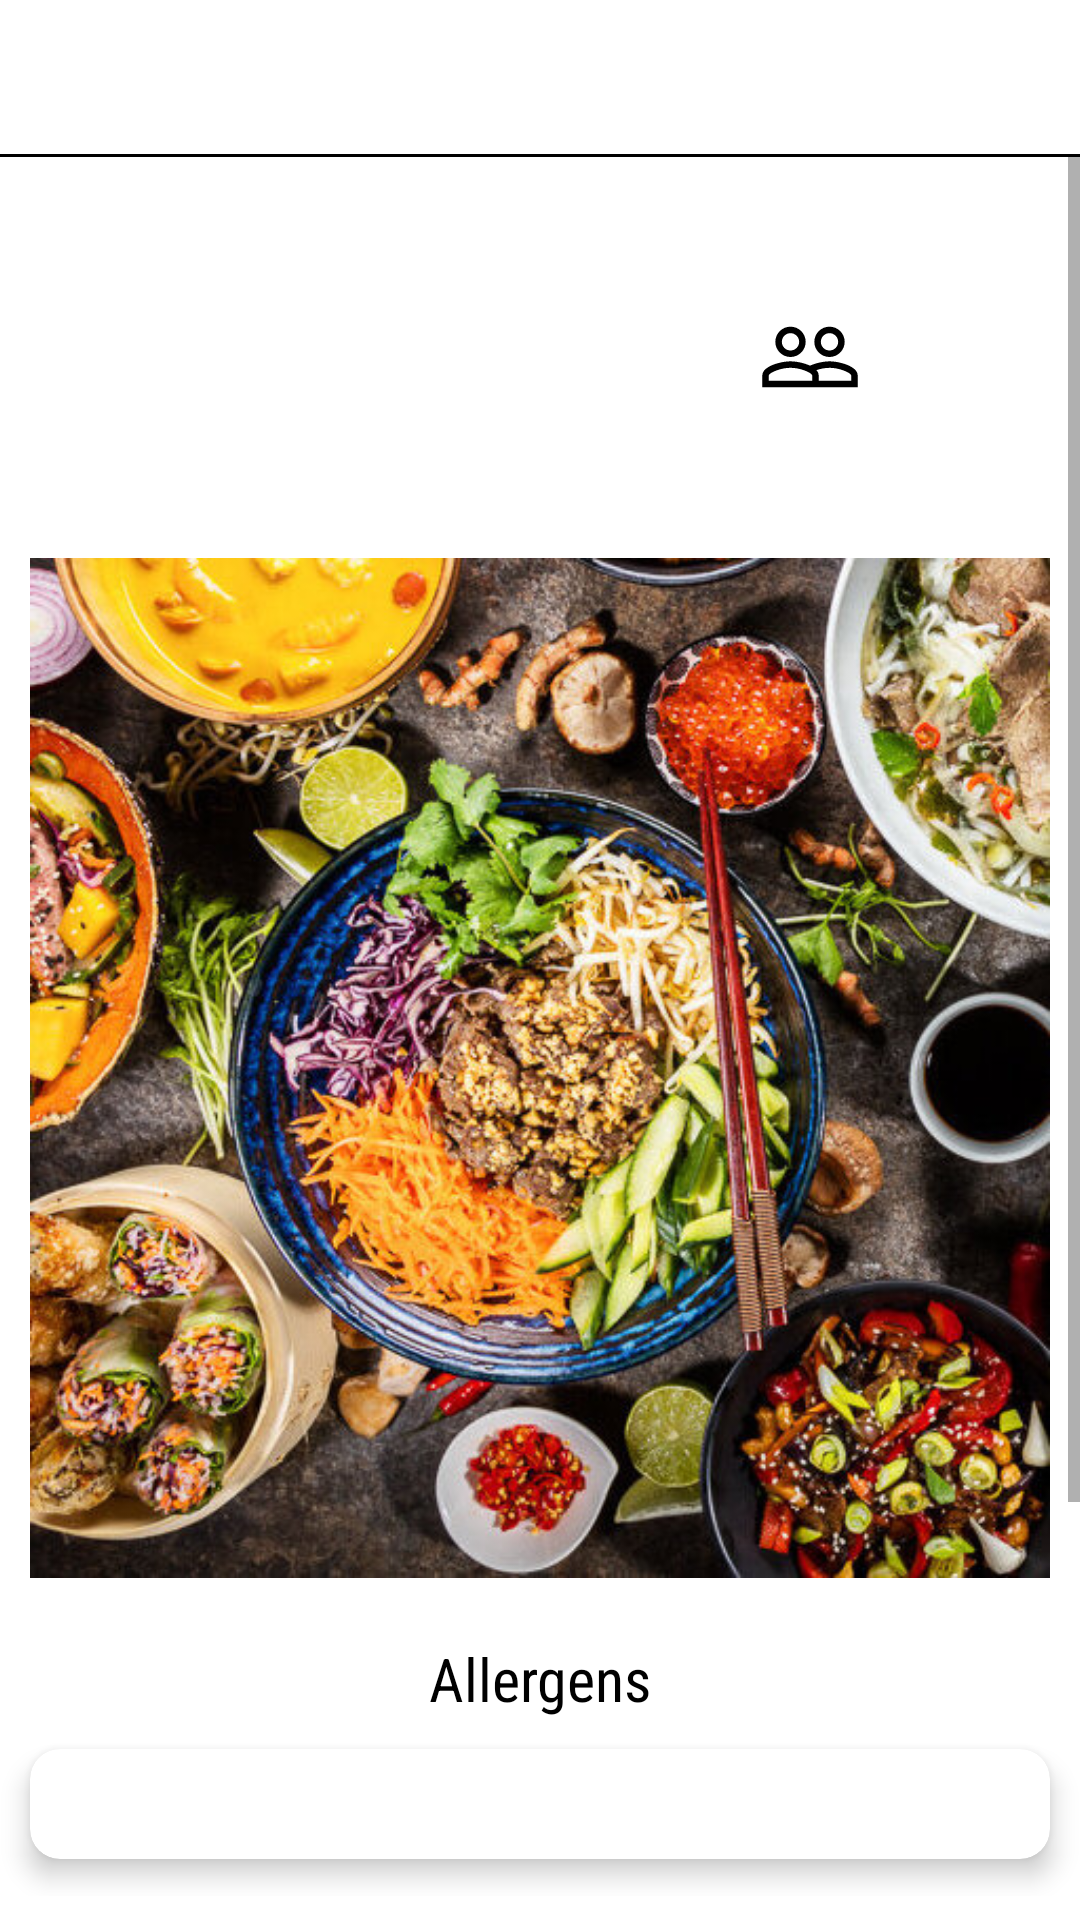

Screen size 1080px×1920px. Icon name, then its box in pixels as (x1, y1, x2, y2):
people: (762, 326, 858, 388)
